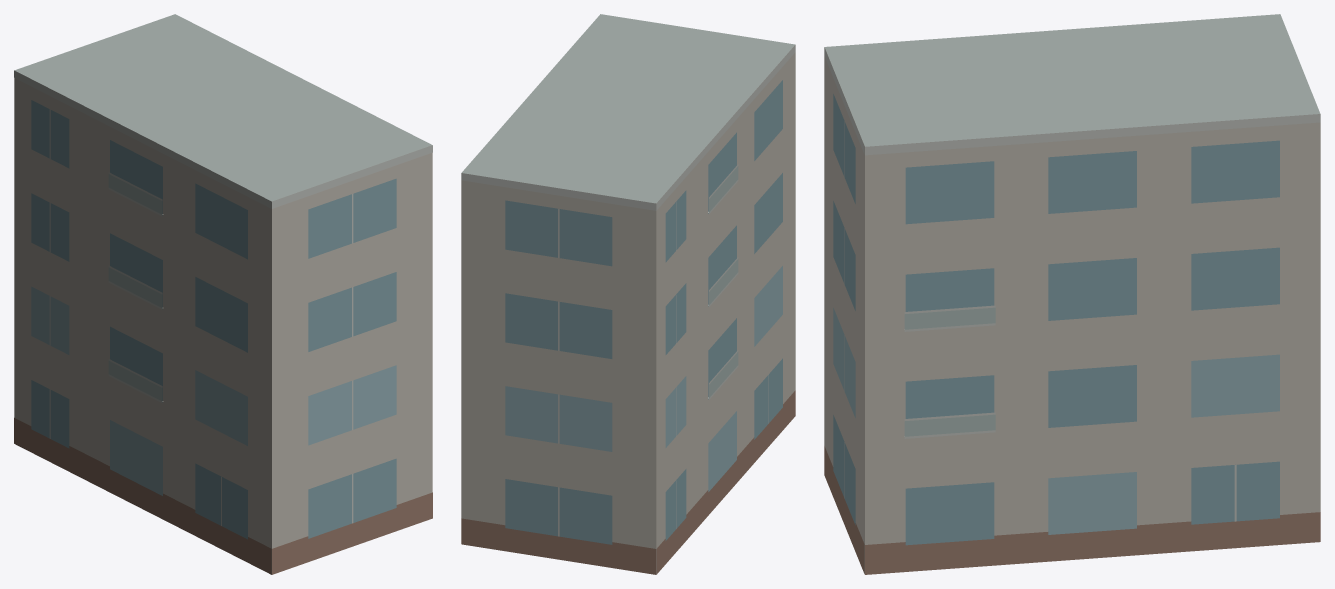
Rendered from residential-c94d1f18-79cc-467e-ae38-ba5b8626f3bb.glb.
3 views of the same model, side by side, from view 1: azimuth 30°, elevation 25°; view 2: azimuth 150°, elevation 25°; view 3: azimuth 270°, elevation 25° (orthographic). The views are drawn at different scales.
Parts seen in each view (by area): view 1: residential-c94d1f18-79cc-467e-ae38-ba5b8626f3bb.tmp; view 2: residential-c94d1f18-79cc-467e-ae38-ba5b8626f3bb.tmp; view 3: residential-c94d1f18-79cc-467e-ae38-ba5b8626f3bb.tmp.
Part boxes in pixels (x1,y1,x2,y2): residential-c94d1f18-79cc-467e-ae38-ba5b8626f3bb.tmp: (14, 14, 432, 574); residential-c94d1f18-79cc-467e-ae38-ba5b8626f3bb.tmp: (461, 14, 795, 574); residential-c94d1f18-79cc-467e-ae38-ba5b8626f3bb.tmp: (824, 14, 1320, 574).
Bounding box in the file's own units: 8.13 × 12.2 × 12.82.
